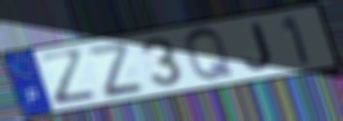1: (279, 13, 313, 67)
3: (139, 36, 185, 89)
J: (241, 21, 275, 72)
Q: (182, 26, 238, 84)
Z: (35, 47, 101, 108), (84, 40, 147, 100)
